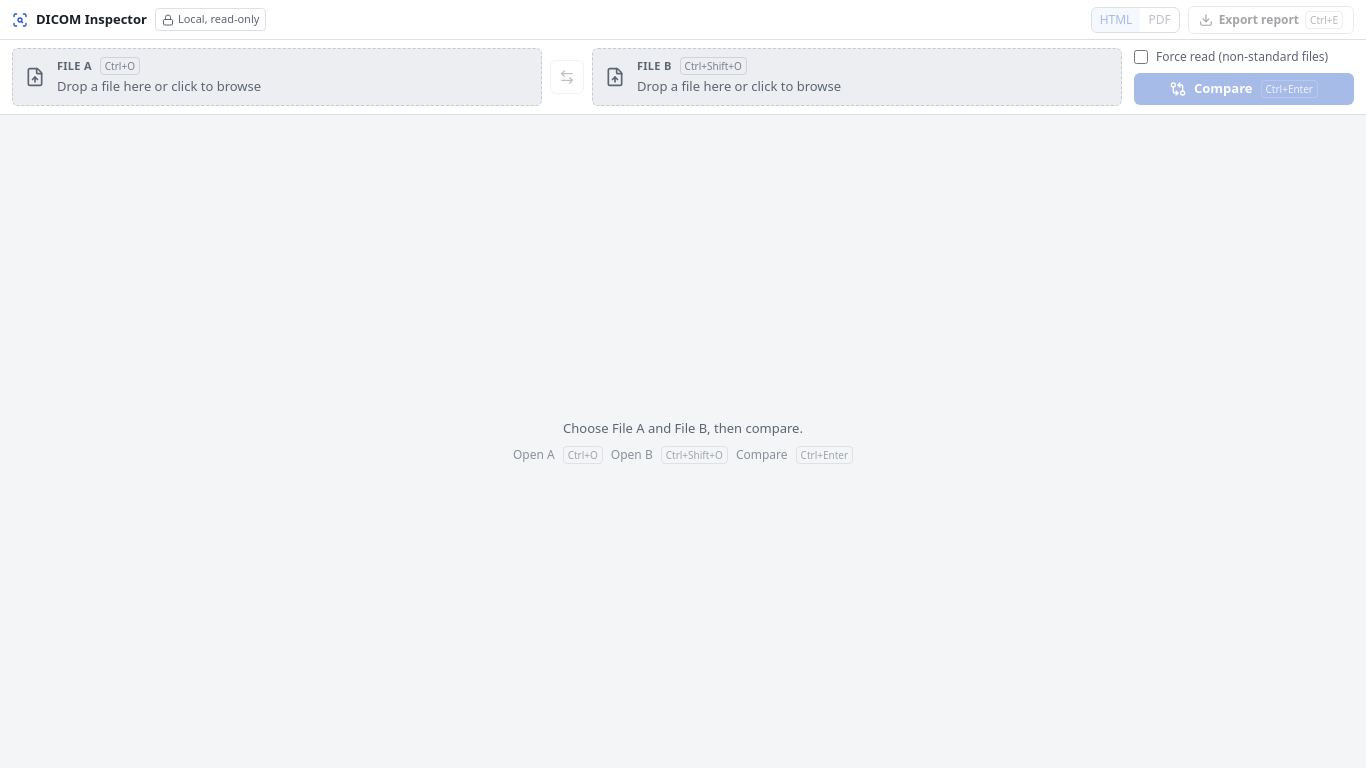
Test: App › exports the current result with Ctrl+E in the chosen format
Click the button with aria-label "Choose File A" at x=74, y=65, box [13,49,541,104]
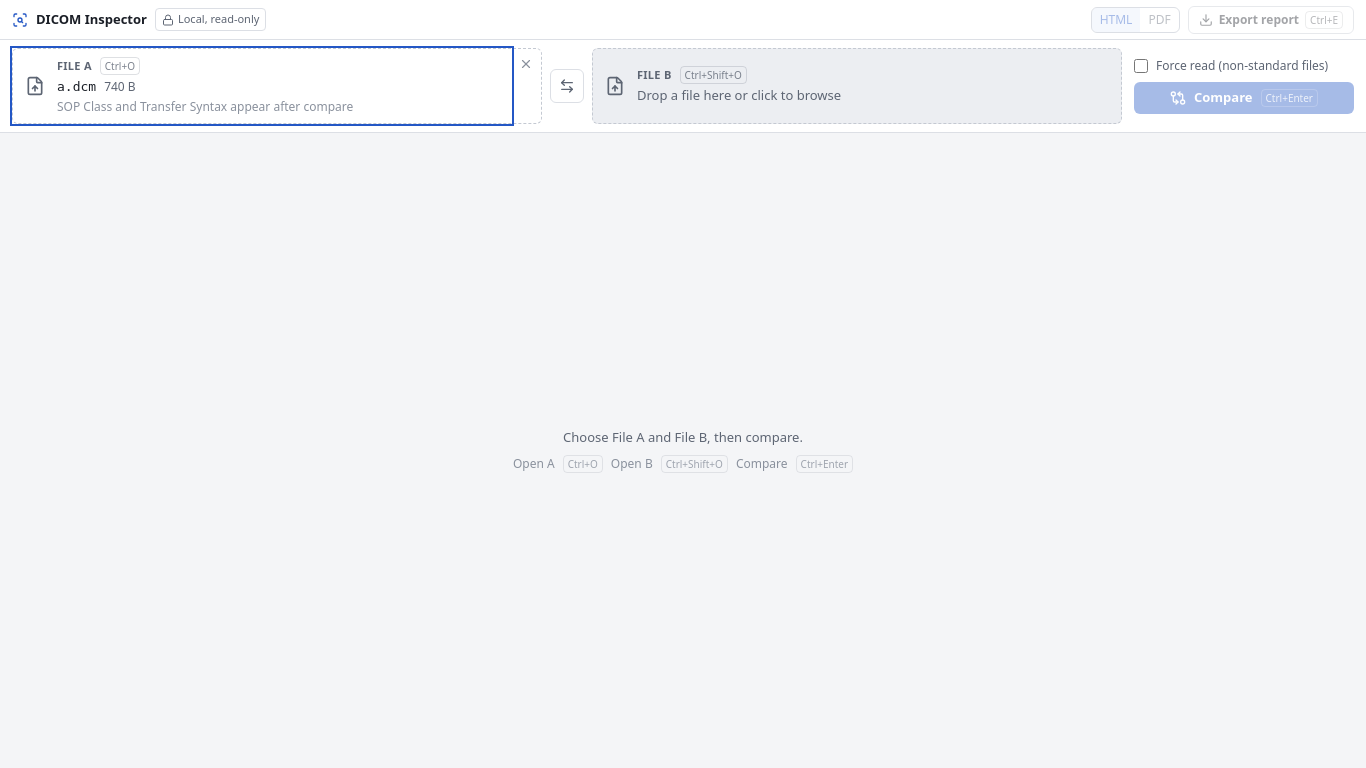
Click the button with aria-label "Choose File B" at x=654, y=74, box [593,49,1121,122]
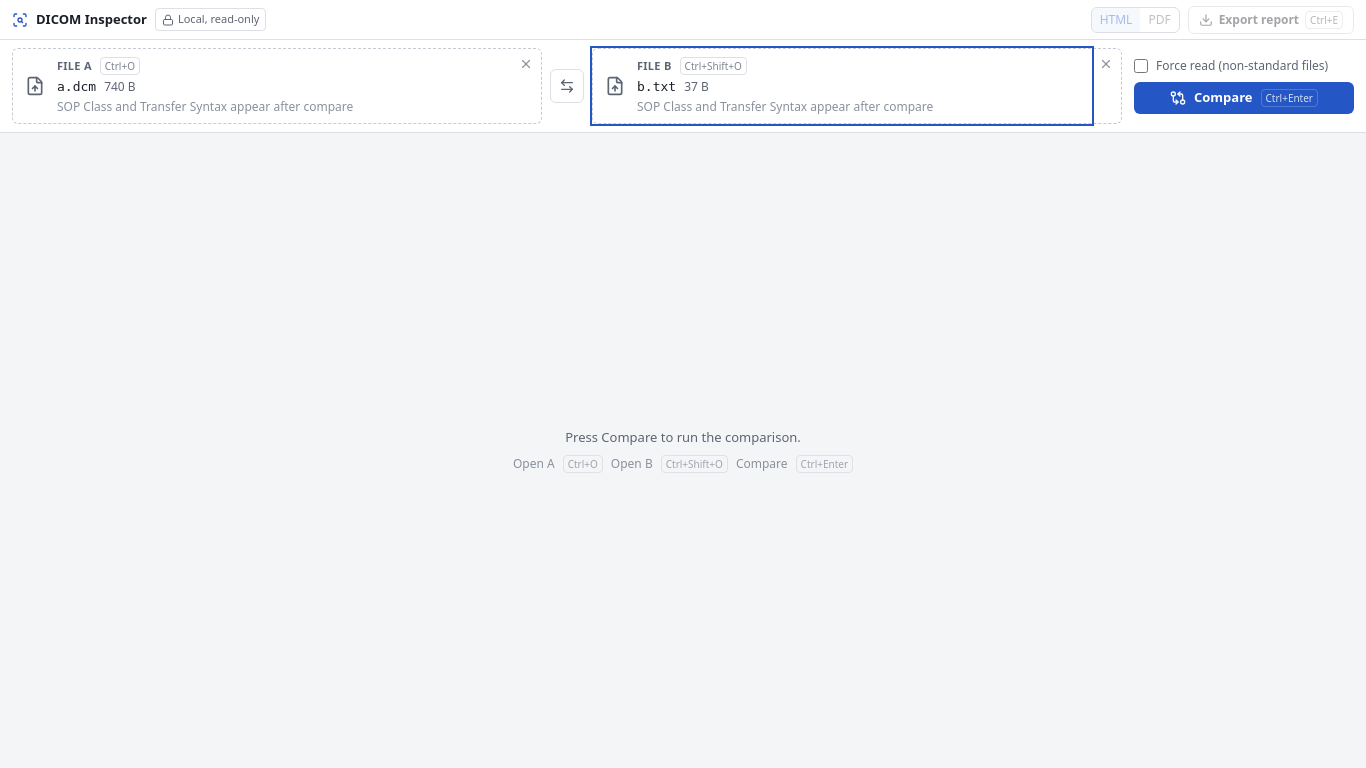
Check: the text "b.txt" is shown, box [637,77,676,96]
Click the button "Compare Ctrl+Enter" at x=1244, y=98, box [1134,82,1354,114]
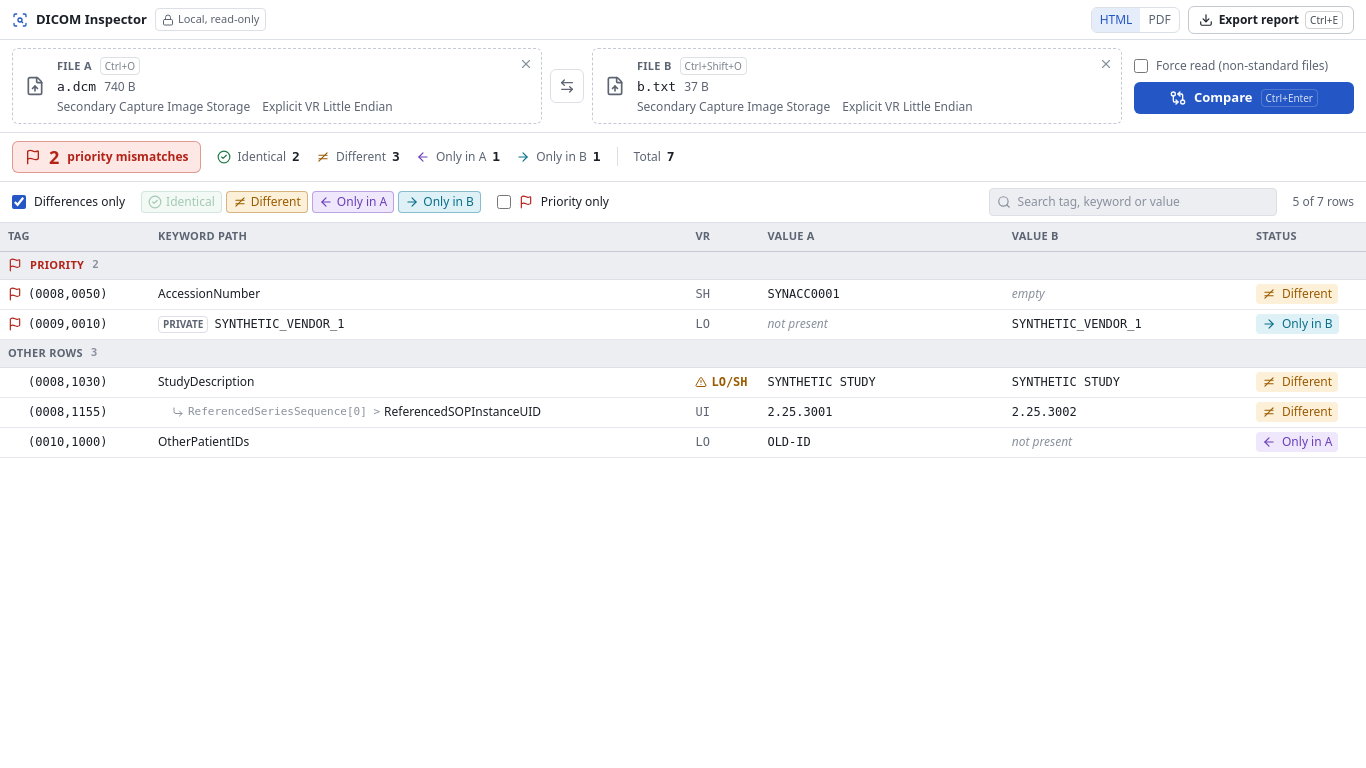
Check: the element with test id "priority-mismatches" is shown, box [12,140,202,172]
Click the radio button labelled "PDF" at x=1160, y=20, box [1140,8,1179,32]
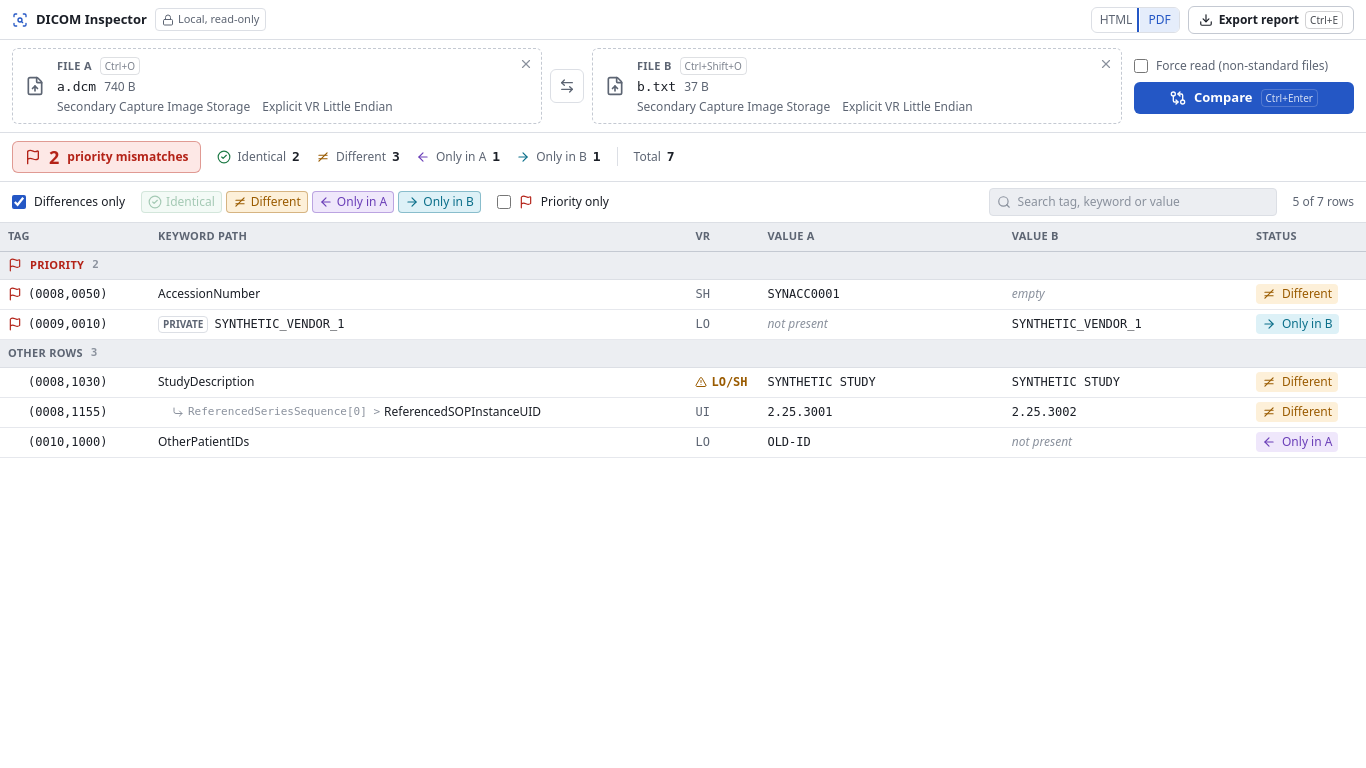
Type keys "{Control>}e{/Control}"
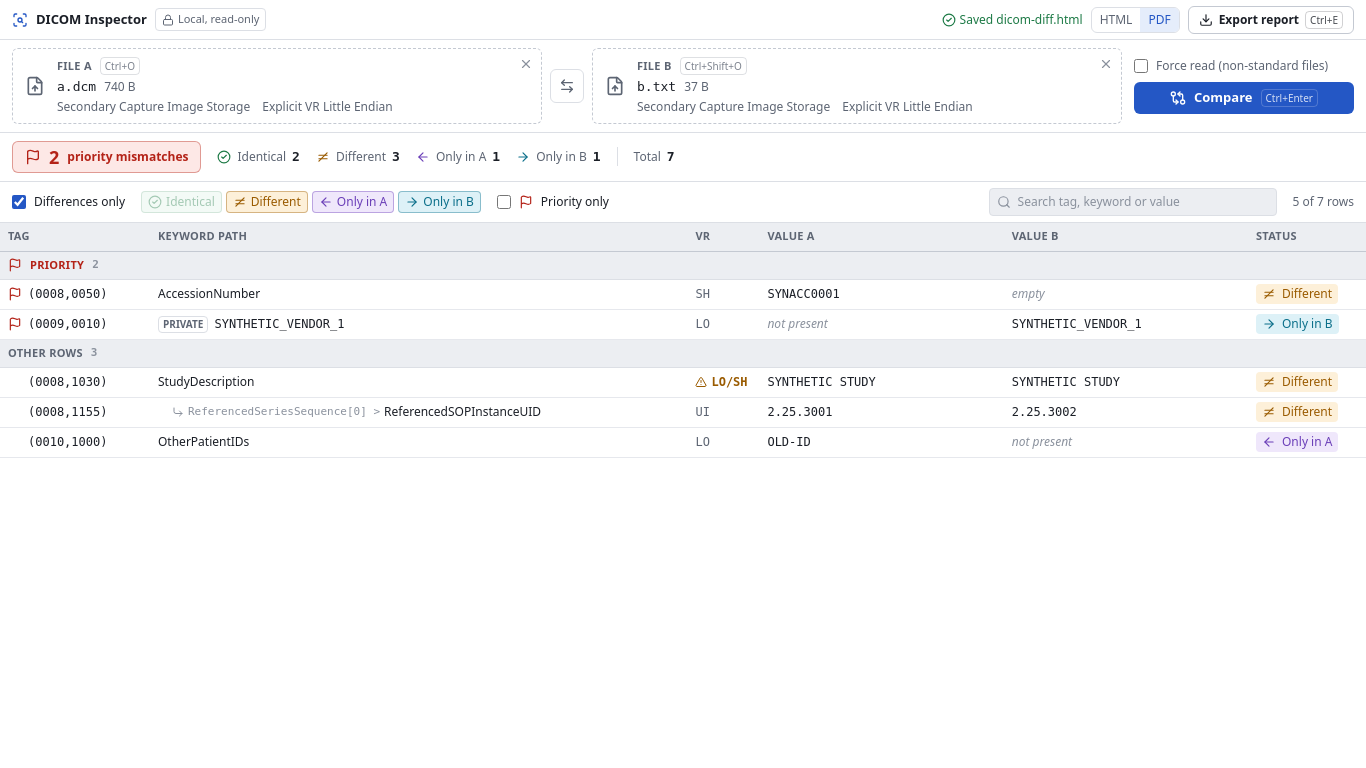
Check: the text "Saved dicom-diff.html" is shown, box [960,12,1083,28]
